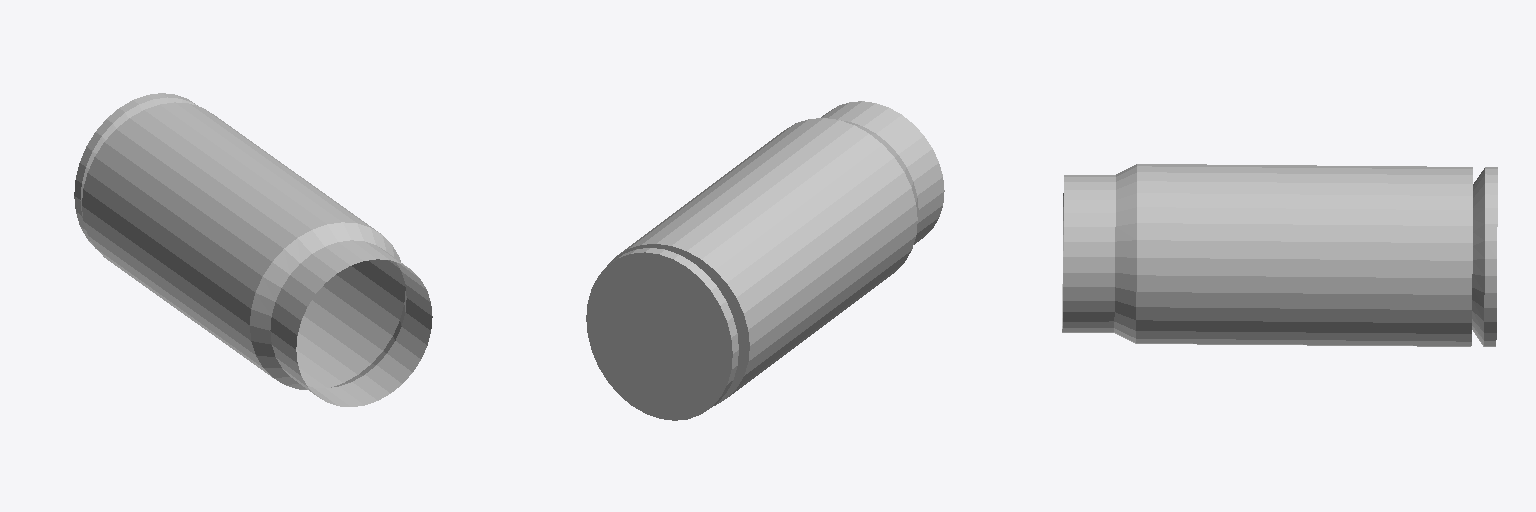
The model's file is RifleBulletCasing.obj.
3 renders of one model, left to right at view 1: azimuth 30°, elevation 25°; view 2: azimuth 150°, elevation 25°; view 3: azimuth 270°, elevation 25°, orthographic.
Visible parts, largest first — view 1: Cylinder; view 2: Cylinder; view 3: Cylinder.
Part boxes in pixels (bbox=[...]): Cylinder: bbox=[74, 93, 432, 406]; Cylinder: bbox=[586, 101, 944, 420]; Cylinder: bbox=[1062, 164, 1497, 346].
Size of the model in its own units: 2 by 2.05 by 4.83.